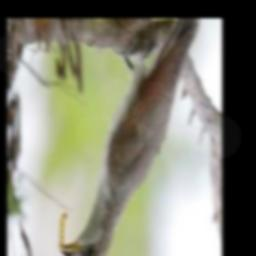Cuckoo: (60, 18, 200, 256)
